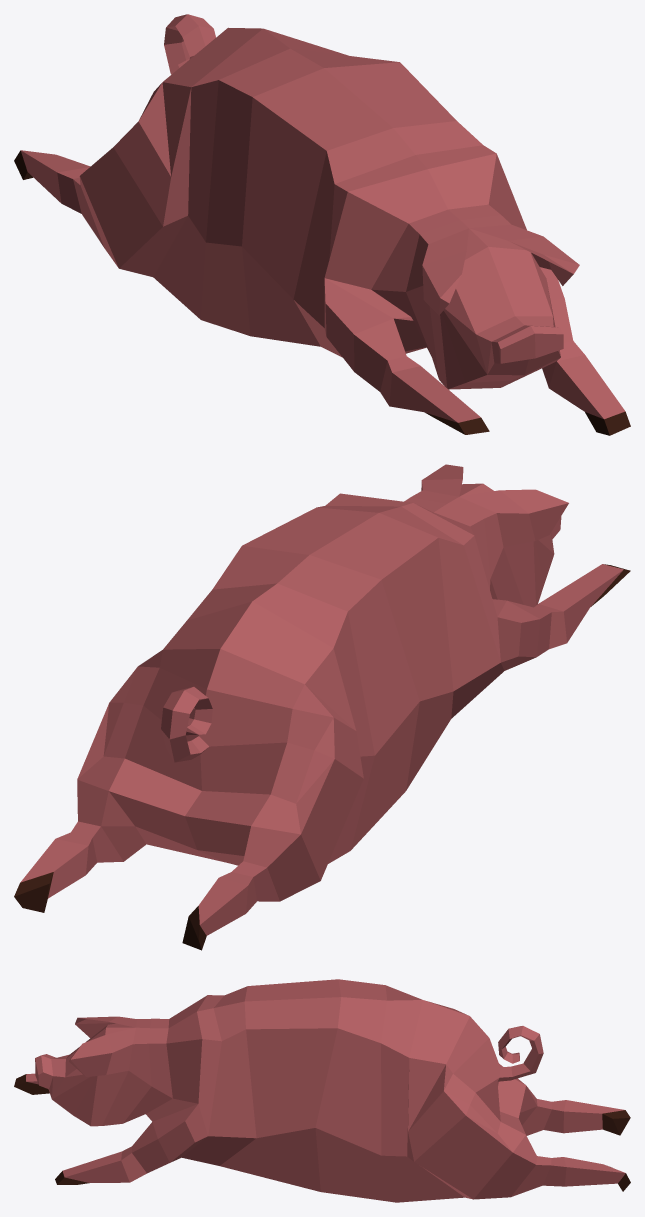
Rendered from Pig_000014.obj.
3 renders of one model, top to bottom at view 1: azimuth 30°, elevation 25°; view 2: azimuth 150°, elevation 25°; view 3: azimuth 270°, elevation 25°, orthographic. The views are drawn at different scales.
Parts seen in each view (by area): view 1: Pig_Cylinder; view 2: Pig_Cylinder; view 3: Pig_Cylinder.
Part boxes in pixels (x1=…): Pig_Cylinder: x1=14, y1=14, x2=630, y2=435; Pig_Cylinder: x1=14, y1=464, x2=630, y2=950; Pig_Cylinder: x1=14, y1=979, x2=630, y2=1202.
Bounding box in the file's own units: 3.31 × 3.57 × 10.97.
